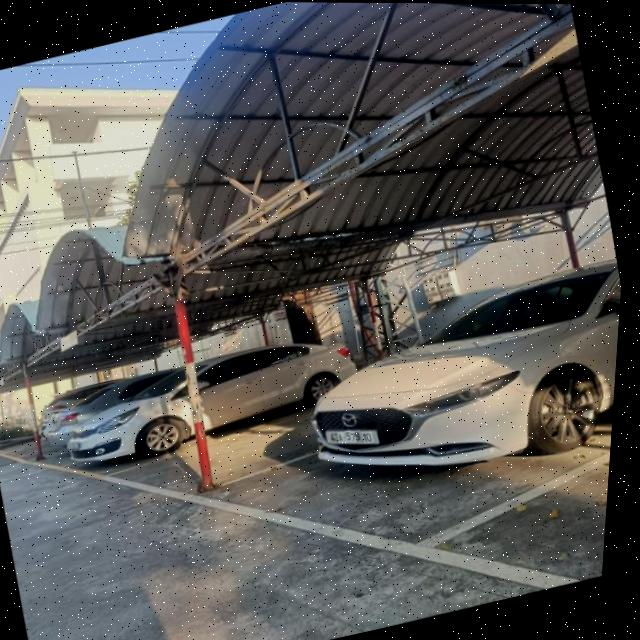car: (273, 266, 622, 513), (22, 312, 379, 497)
plate: (321, 416, 386, 459)
